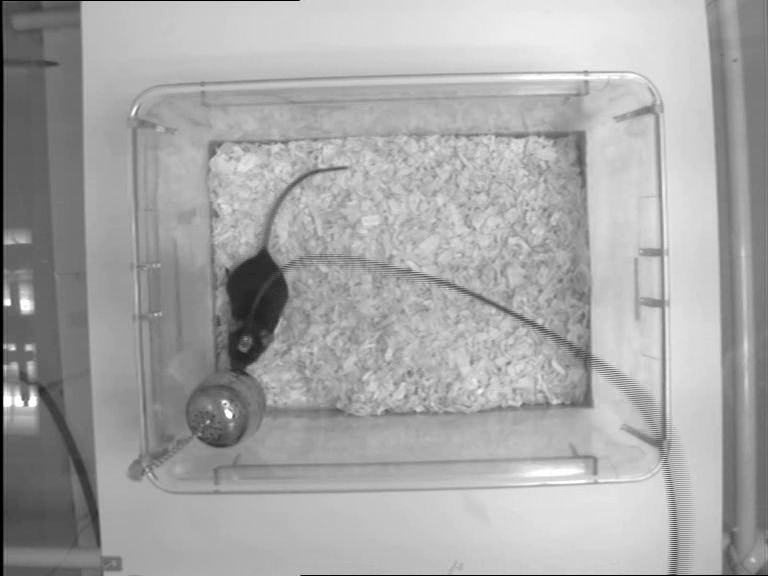mice: (220, 164, 349, 373)
